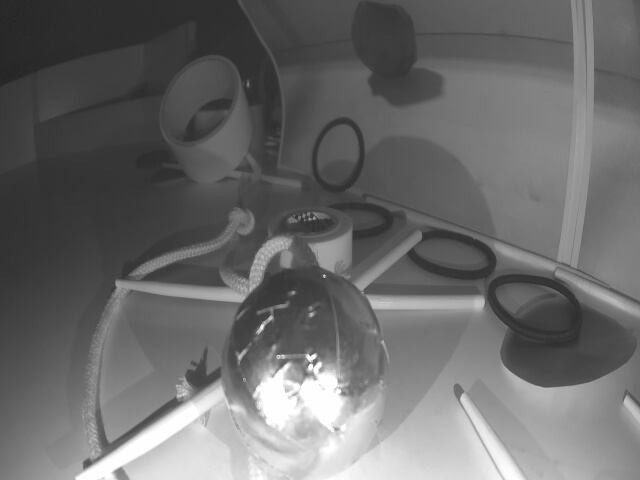Live: (216, 274, 381, 475)
Point: (35, 94, 185, 159)
